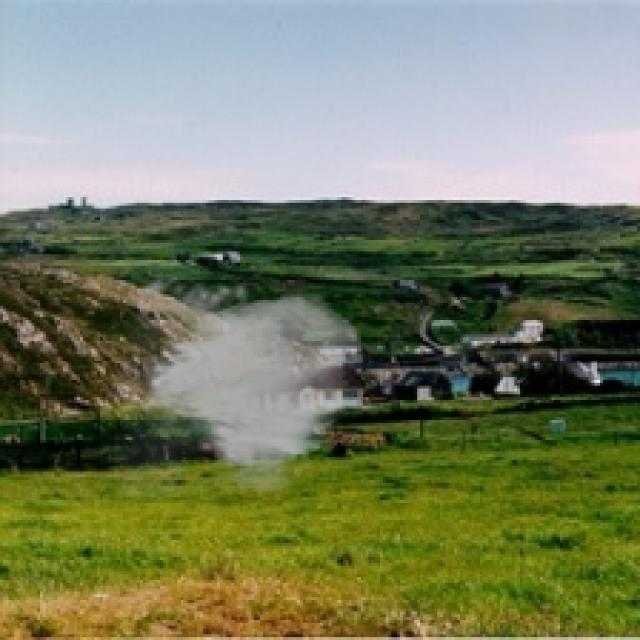smoke: (114, 269, 366, 500)
